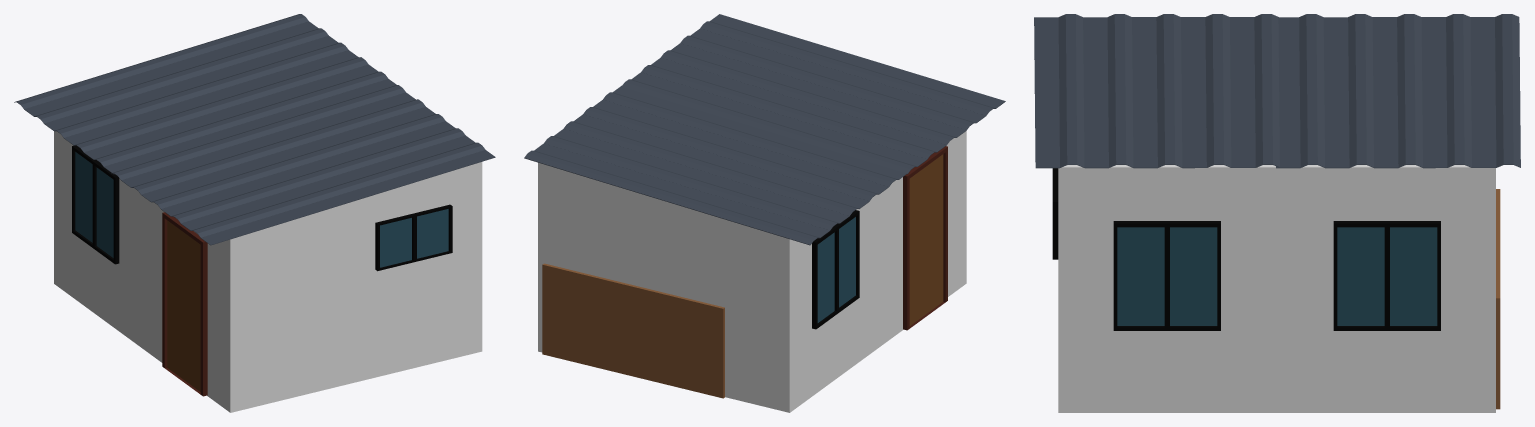
The model's file is Slum 2.fbx.
The picture shows the model from 3 angles, left to right: view 1: azimuth 30°, elevation 25°; view 2: azimuth 150°, elevation 25°; view 3: azimuth 270°, elevation 25°; orthographic projection. The views are drawn at different scales.
Parts seen in each view (by area): view 1: Roof.002, Cube.001, Cube.017, Door.002, Window 1.001, Window 2.004; view 2: Roof.002, Cube.001, Cube.008, Cube.017, Door.002, Window 1.001; view 3: Cube.017, Roof.002, Window 1.003, Window 1.004, Cube.008, Window 2.004, Cube.001.
Boxes of the visible parts, box(x1,y1,x2,y2) form: Roof.002: box(14, 14, 495, 245); Cube.001: box(230, 162, 482, 412); Cube.017: box(54, 131, 230, 412); Door.002: box(162, 212, 207, 396); Window 1.001: box(72, 145, 119, 264); Window 2.004: box(375, 204, 452, 271); Roof.002: box(524, 14, 1005, 245); Cube.001: box(538, 162, 789, 412); Cube.008: box(542, 263, 724, 398); Cube.017: box(789, 131, 966, 412); Door.002: box(903, 146, 947, 330); Window 1.001: box(812, 210, 859, 329); Cube.017: box(1058, 167, 1495, 412); Roof.002: box(1034, 14, 1520, 168); Window 1.003: box(1333, 221, 1440, 330); Window 1.004: box(1113, 221, 1220, 330); Cube.008: box(1496, 189, 1500, 409); Window 2.004: box(1052, 168, 1058, 259); Cube.001: box(1062, 165, 1469, 167).
Bounding box in the file's own units: 446 × 301 × 529.
